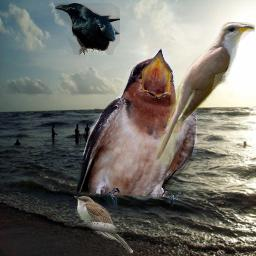Crow: (55, 3, 120, 55)
Cuckoo: (152, 22, 255, 165), (74, 196, 133, 254)
Swallow: (77, 48, 197, 207)
